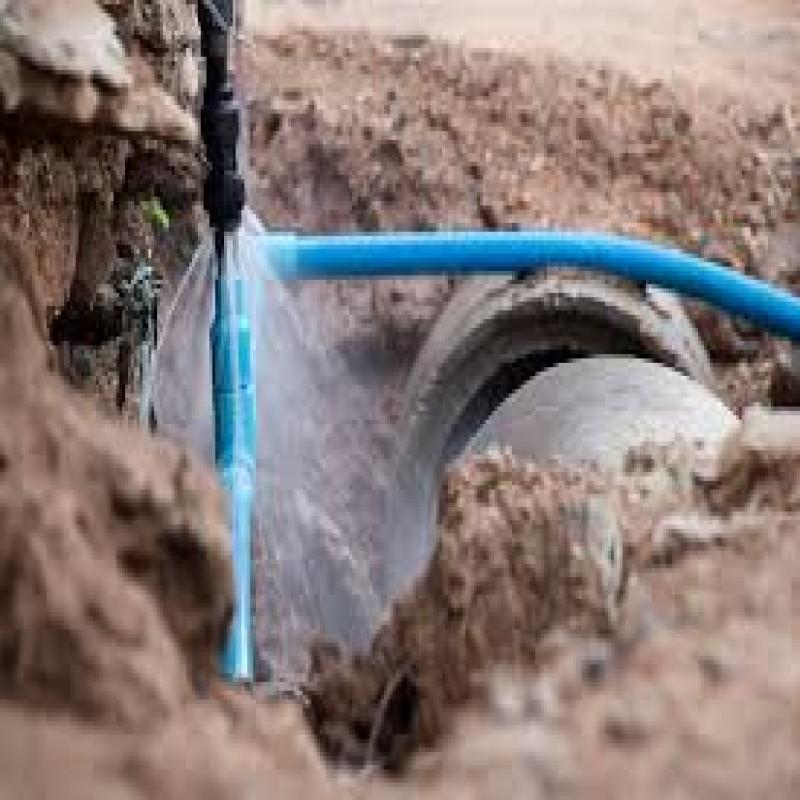Fracture: (166, 143, 418, 526)
